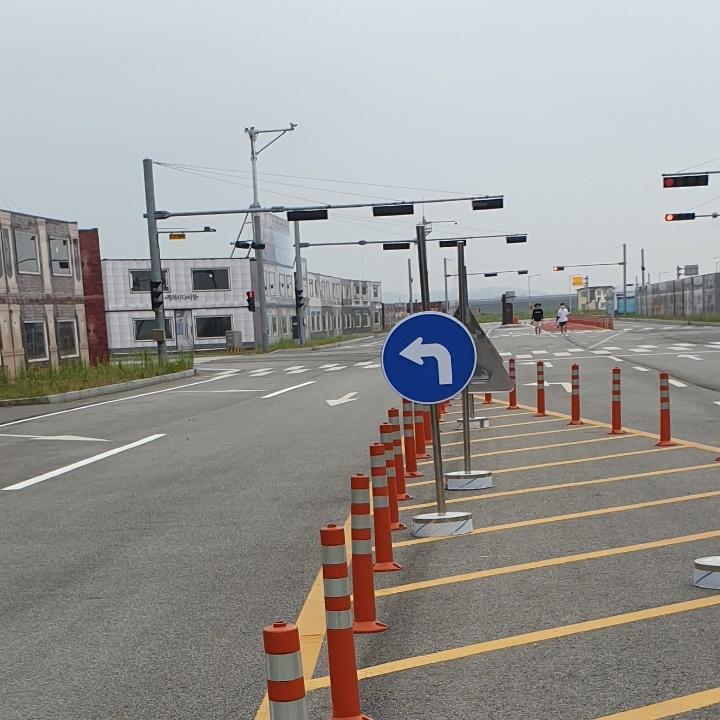left: (390, 333, 462, 391)
